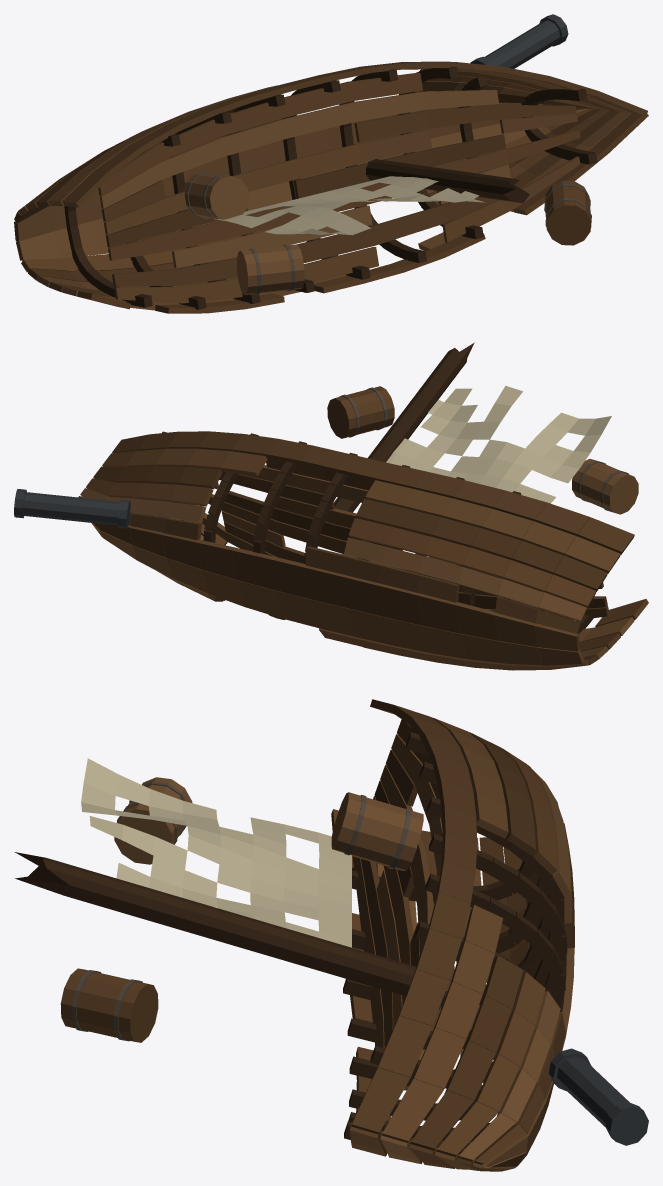
The model's file is naufragio_chalupa.glb.
3 renders of one model, top to bottom at view 1: azimuth 30°, elevation 25°; view 2: azimuth 150°, elevation 25°; view 3: azimuth 270°, elevation 25°, orthographic. The views are drawn at different scales.
Parts seen in each view (by area): view 1: naufragio_chalupa; view 2: naufragio_chalupa; view 3: naufragio_chalupa.
Boxes of the visible parts, x1,y1,x2,y2 form: naufragio_chalupa: (14,14,648,313); naufragio_chalupa: (14,342,648,670); naufragio_chalupa: (14,699,648,1171).
Bounding box in the file's own units: 10.33 × 3.29 × 7.26.
